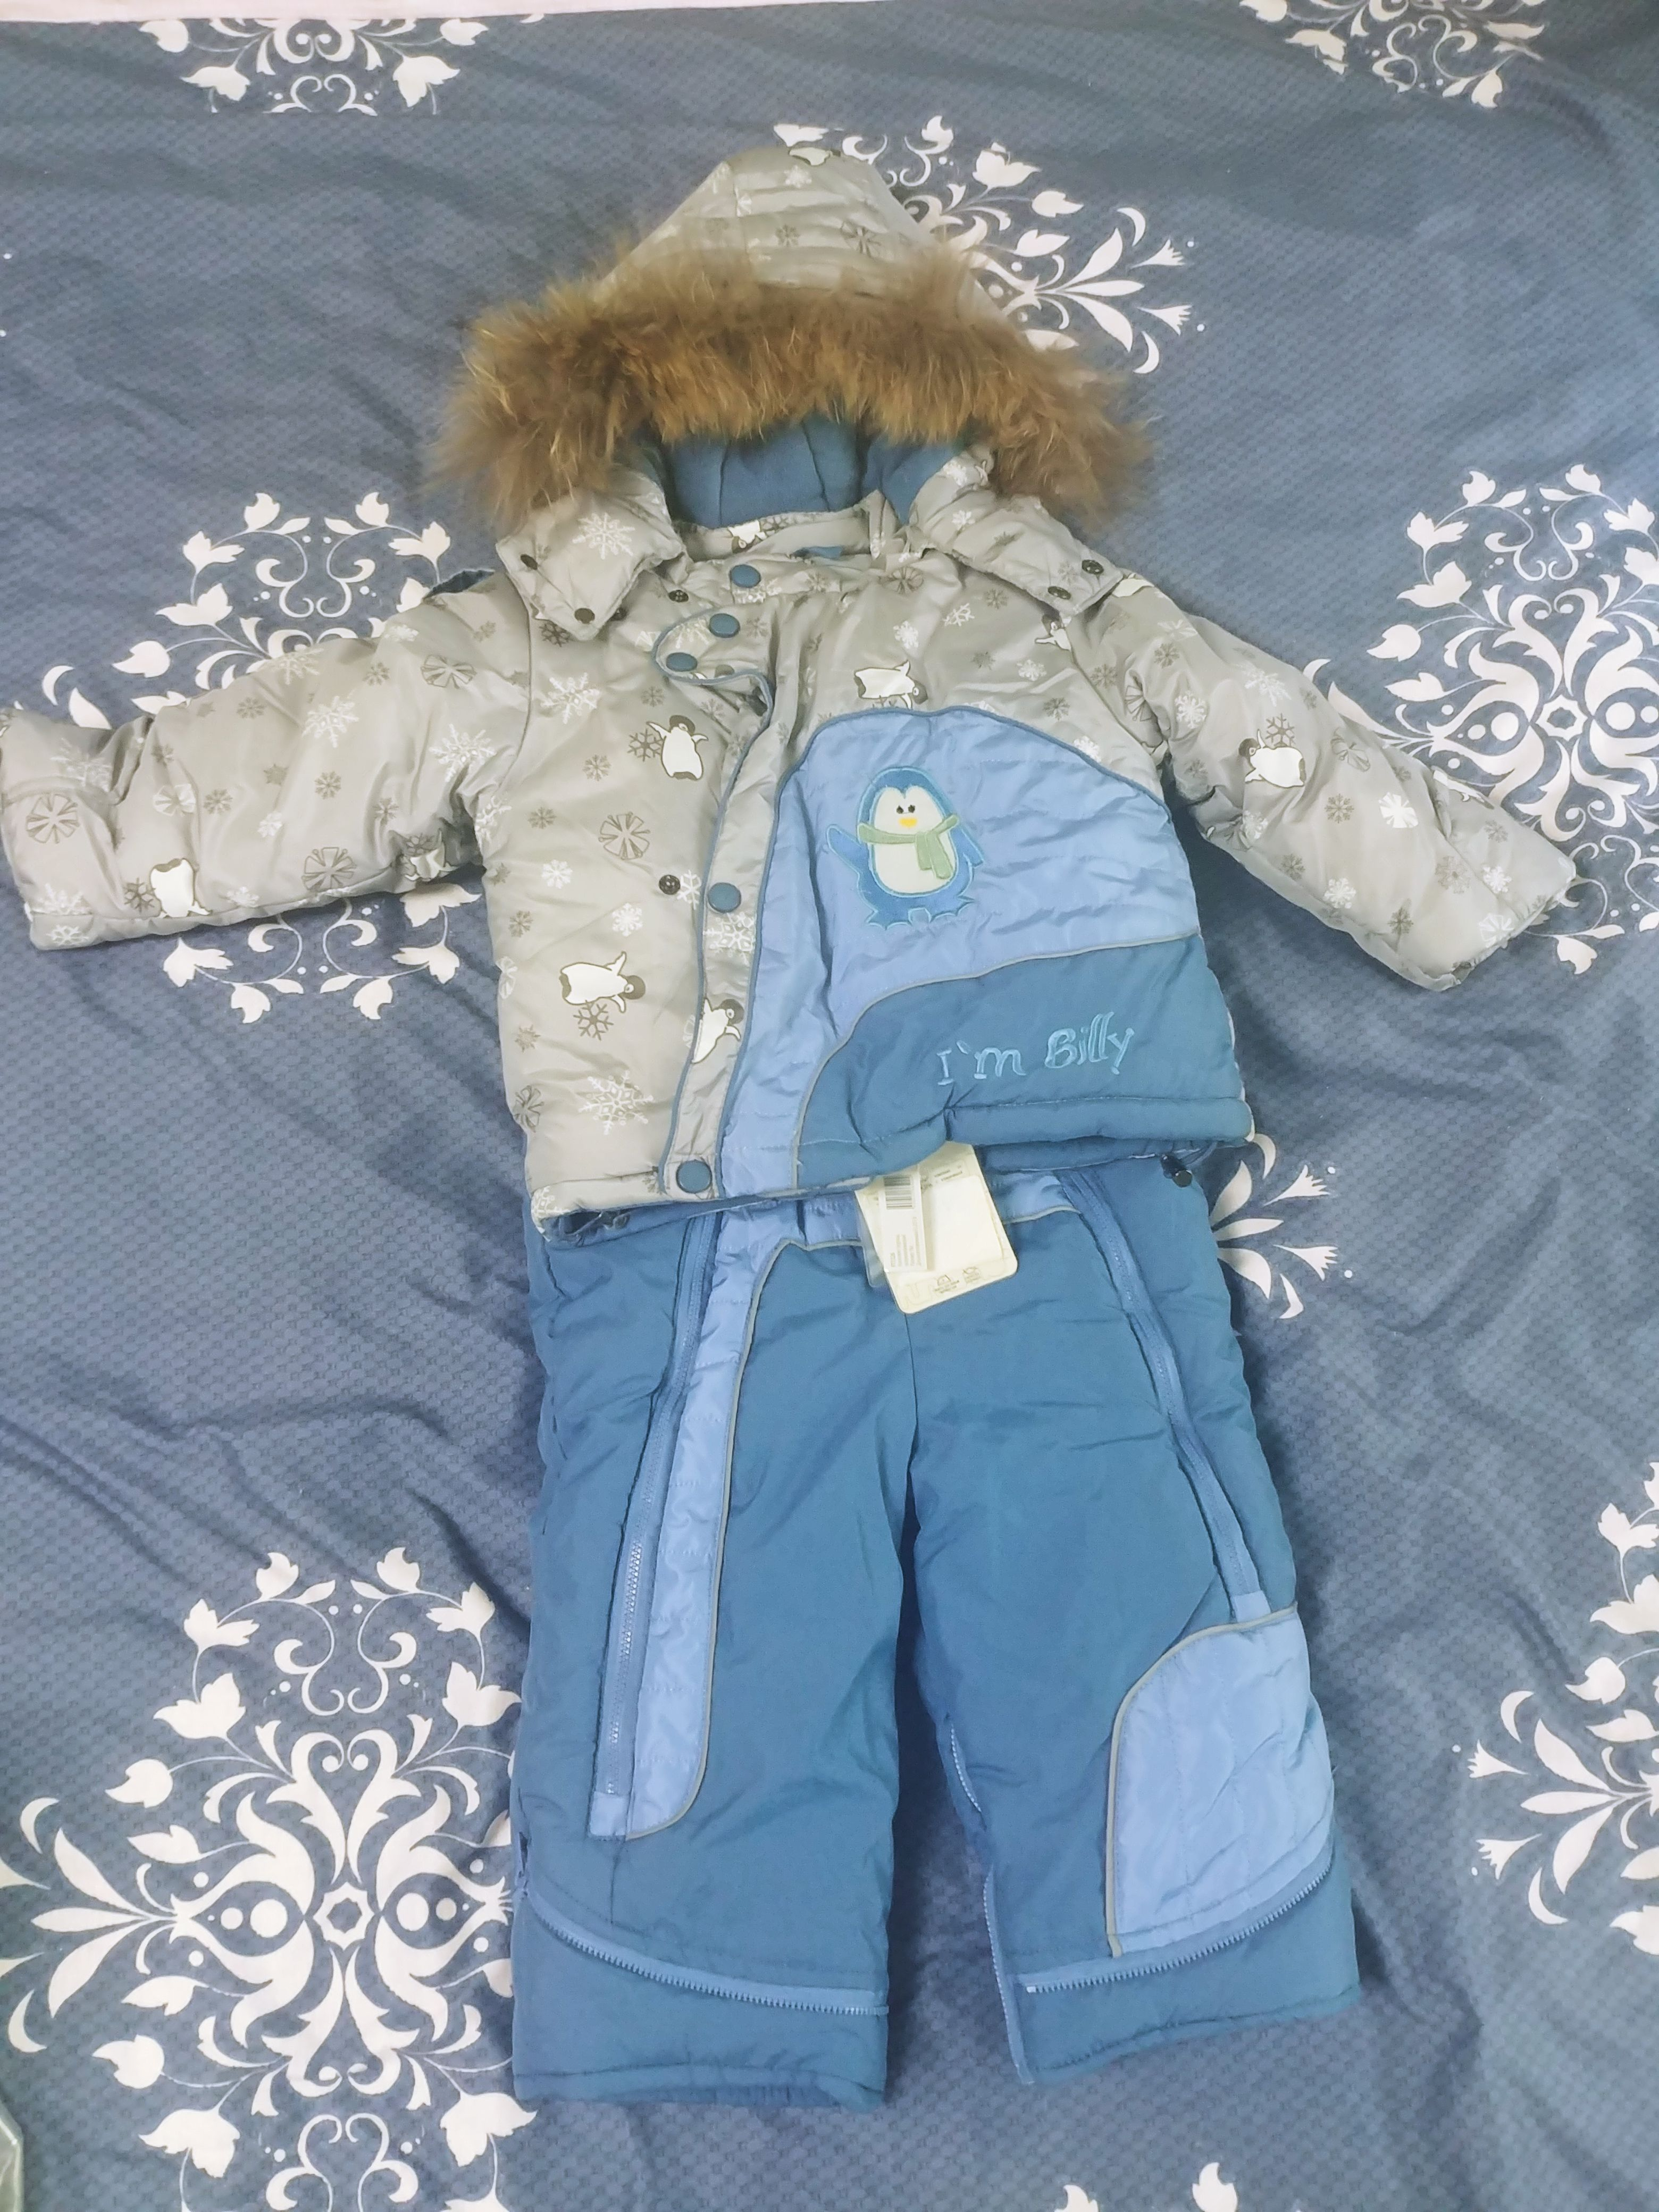clothes: (35, 136, 1588, 2092)
